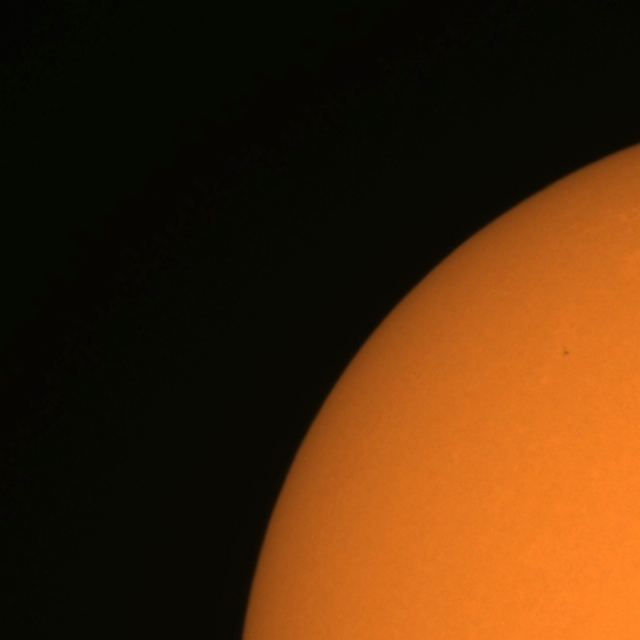sunspot: (561, 347, 571, 358)
